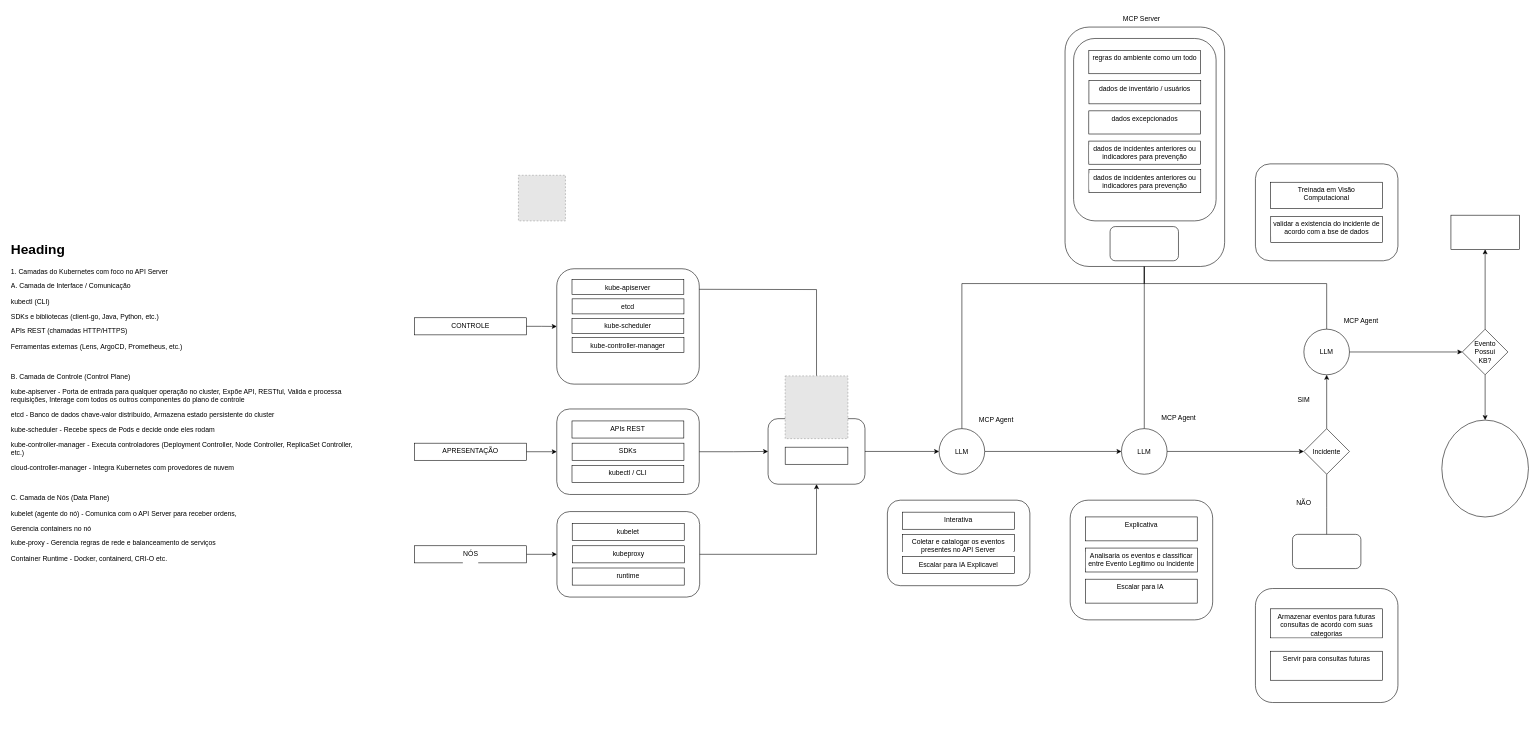
The diagram is 1538 pixels wide and 743 high, and some of its shapes have lost their labels. Grey dashed boxes stand in for pictures. Each missing label, with the centre of its shape:
Acionar Humano para investigação aprofundada e tratativa: point 1484,468
Base de Conhecimento Temporal: point 1326,551
Coletor: point 816,455
Context Manager: point 1144,243
Iniciar tratativa do incidente: point 1484,232
